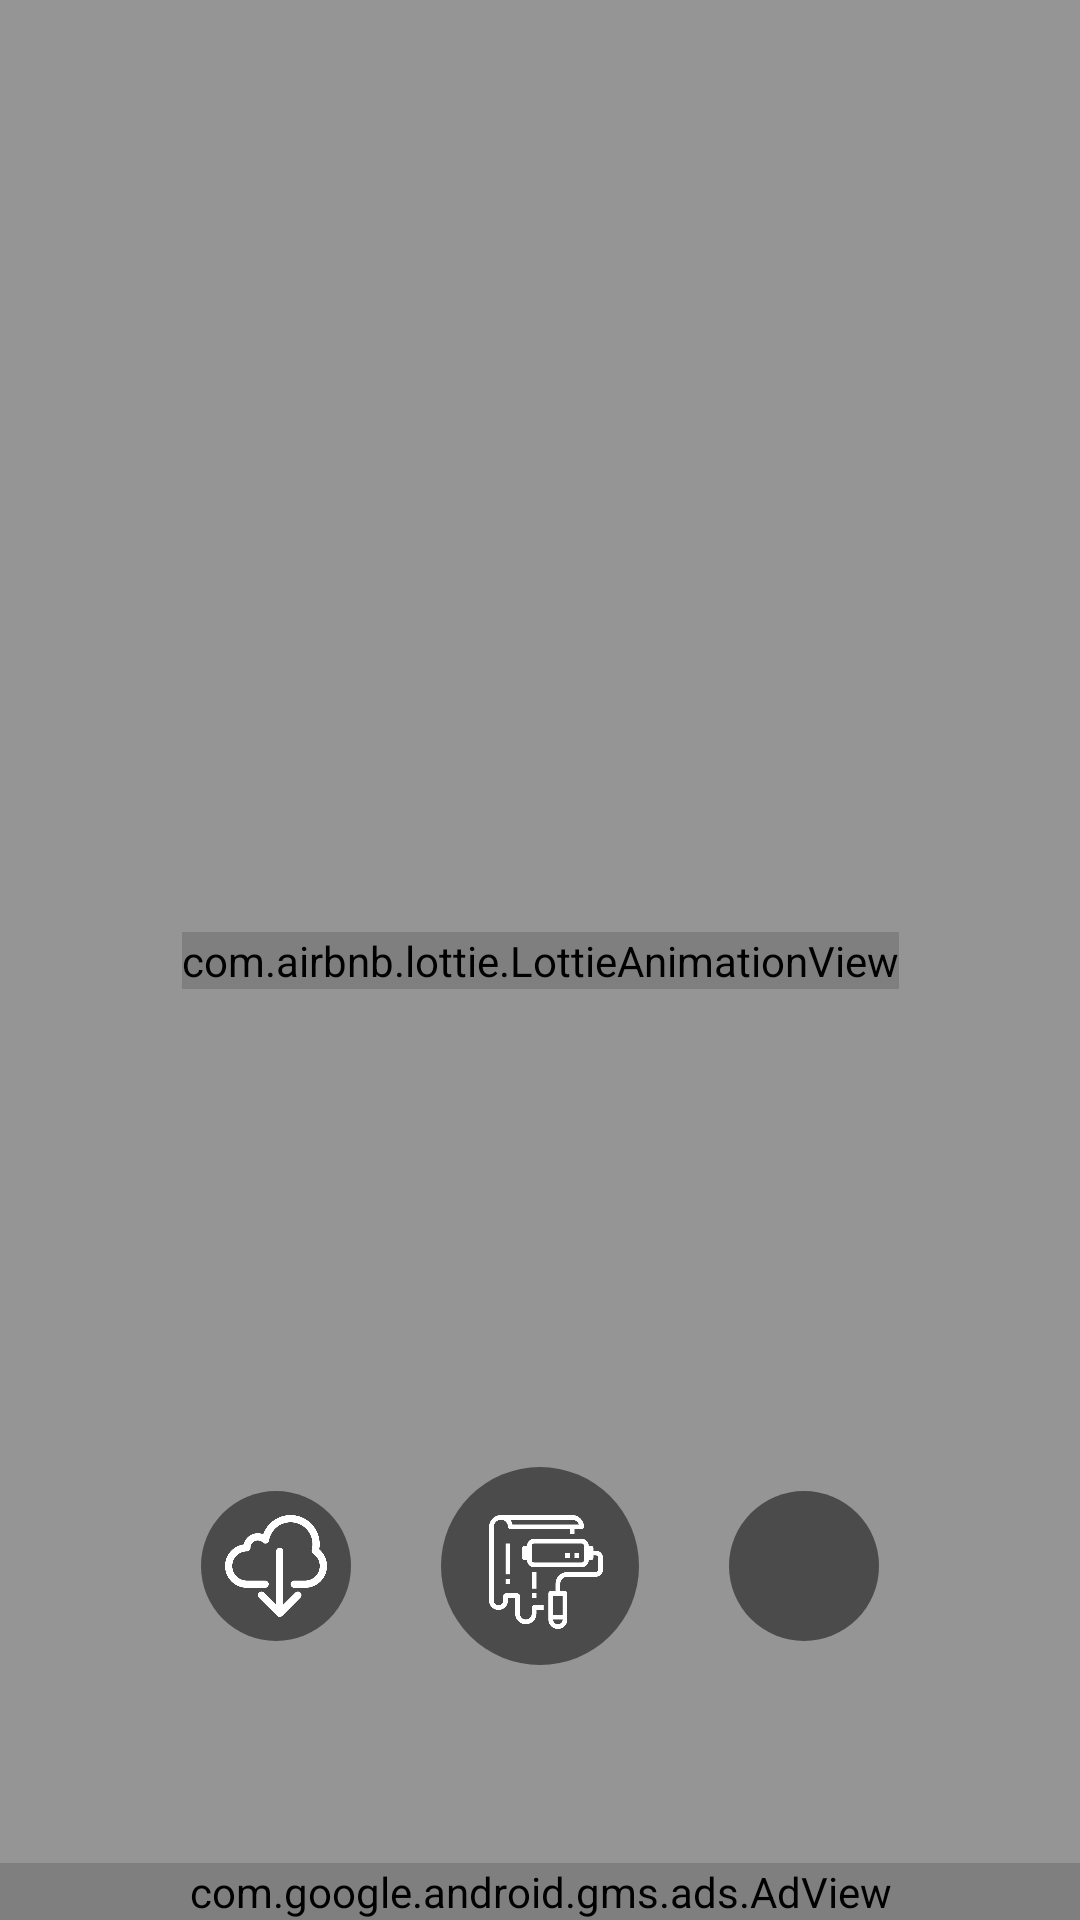

Where to tap for icons on this 1080 × 1920 app screen, as (x=x, y=y):
descarga: (x=276, y=1566)
setwpp: (x=546, y=1572)
